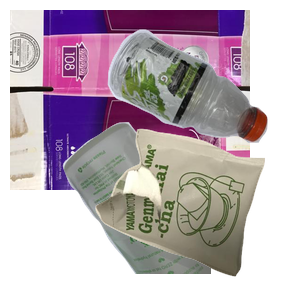cardboard: (10, 10, 250, 190)
glass: (60, 120, 300, 300)
plastic: (105, 27, 300, 162)
trash: (93, 126, 300, 300)
